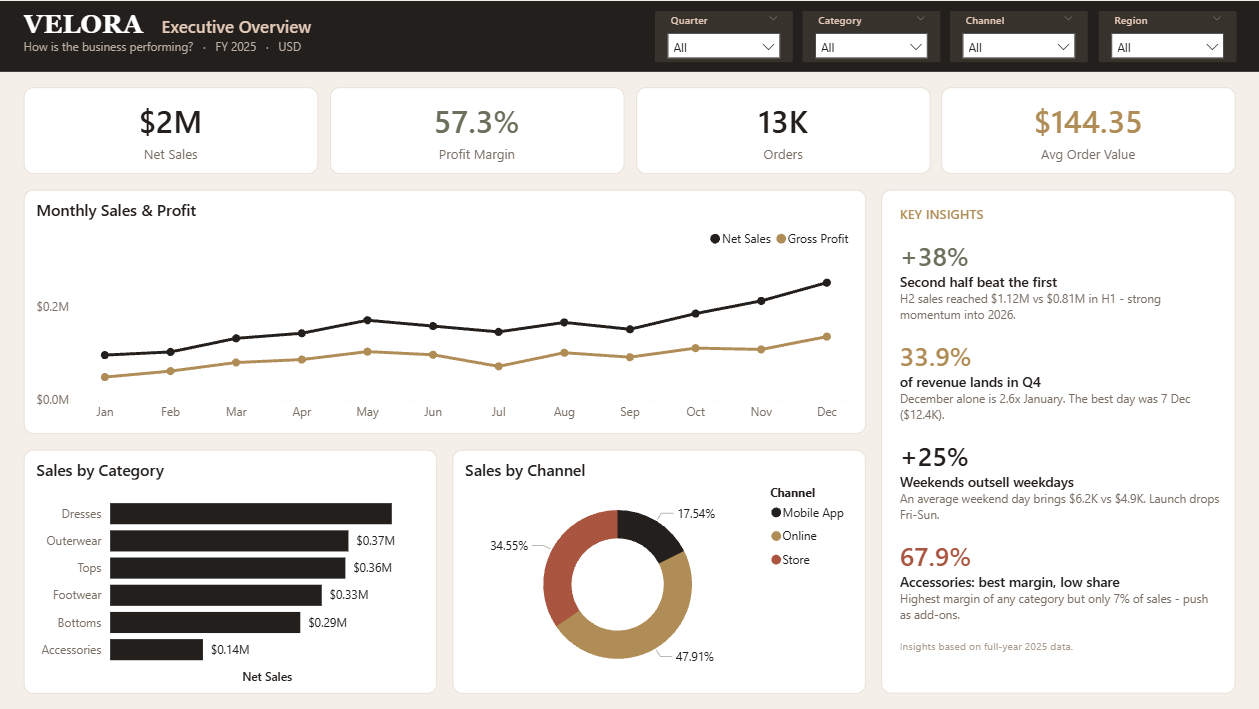

The dashboard page shown, as its layout file describes it:
{"tool":"powerbi","page":{"name":"Executive Overview","canvas":[1280,720],"ordinal":0},"visuals":[{"type":"textbox","box":[0,0,1280,72],"z":1000},{"type":"slicer","fields":{"Values":["Calendar.Quarter"]},"box":[666,10,140,52],"z":2000},{"type":"slicer","fields":{"Values":["products.category"]},"box":[816,10,140,52],"z":3000},{"type":"slicer","fields":{"Values":["sales.channel"]},"box":[966,10,140,52],"z":4000},{"type":"slicer","fields":{"Values":["customers.region"]},"box":[1116,10,140,52],"z":5000},{"type":"card","fields":{"Values":["sales.Total Sales"]},"box":[24,88,299,88],"z":6000},{"type":"card","fields":{"Values":["sales.Profit Margin %"]},"box":[335,88,299,88],"z":7000},{"type":"card","fields":{"Values":["sales.Total Orders"]},"box":[646,88,299,88],"z":8000},{"type":"card","fields":{"Values":["sales.Avg Order Value"]},"box":[957,88,299,88],"z":9000},{"type":"lineChart","title":"Monthly Sales & Profit","fields":{"Category":["Calendar.Month"],"Y":["sales.Total Sales","sales.Total Profit"]},"box":[24,192,856,248],"z":10000},{"type":"clusteredBarChart","title":"Sales by Category","fields":{"Category":["products.category"],"Y":["sales.Total Sales"]},"box":[24,456,420,248],"z":11000},{"type":"donutChart","title":"Sales by Channel","fields":{"Category":["sales.channel"],"Y":["sales.Total Sales"]},"box":[460,456,420,248],"z":12000},{"type":"textbox","box":[896,192,360,512],"z":13000}]}

Visuals, with their boxes in screenshot pixels (x1, y1, x2, y2), scaled from the page's 1280x720 canvas onto the 1259x709 screenshot:
textbox: [left=0, top=0, right=1258, bottom=71]
slicer - Calendar.Quarter: [left=655, top=10, right=793, bottom=61]
slicer - products.category: [left=803, top=10, right=940, bottom=61]
slicer - sales.channel: [left=950, top=10, right=1088, bottom=61]
slicer - customers.region: [left=1098, top=10, right=1235, bottom=61]
card - sales.Total Sales: [left=24, top=87, right=318, bottom=173]
card - sales.Profit Margin %: [left=330, top=87, right=624, bottom=173]
card - sales.Total Orders: [left=635, top=87, right=929, bottom=173]
card - sales.Avg Order Value: [left=941, top=87, right=1235, bottom=173]
"Monthly Sales & Profit" lineChart: [left=24, top=189, right=866, bottom=433]
"Sales by Category" clusteredBarChart: [left=24, top=449, right=437, bottom=693]
"Sales by Channel" donutChart: [left=452, top=449, right=866, bottom=693]
textbox: [left=881, top=189, right=1235, bottom=693]
